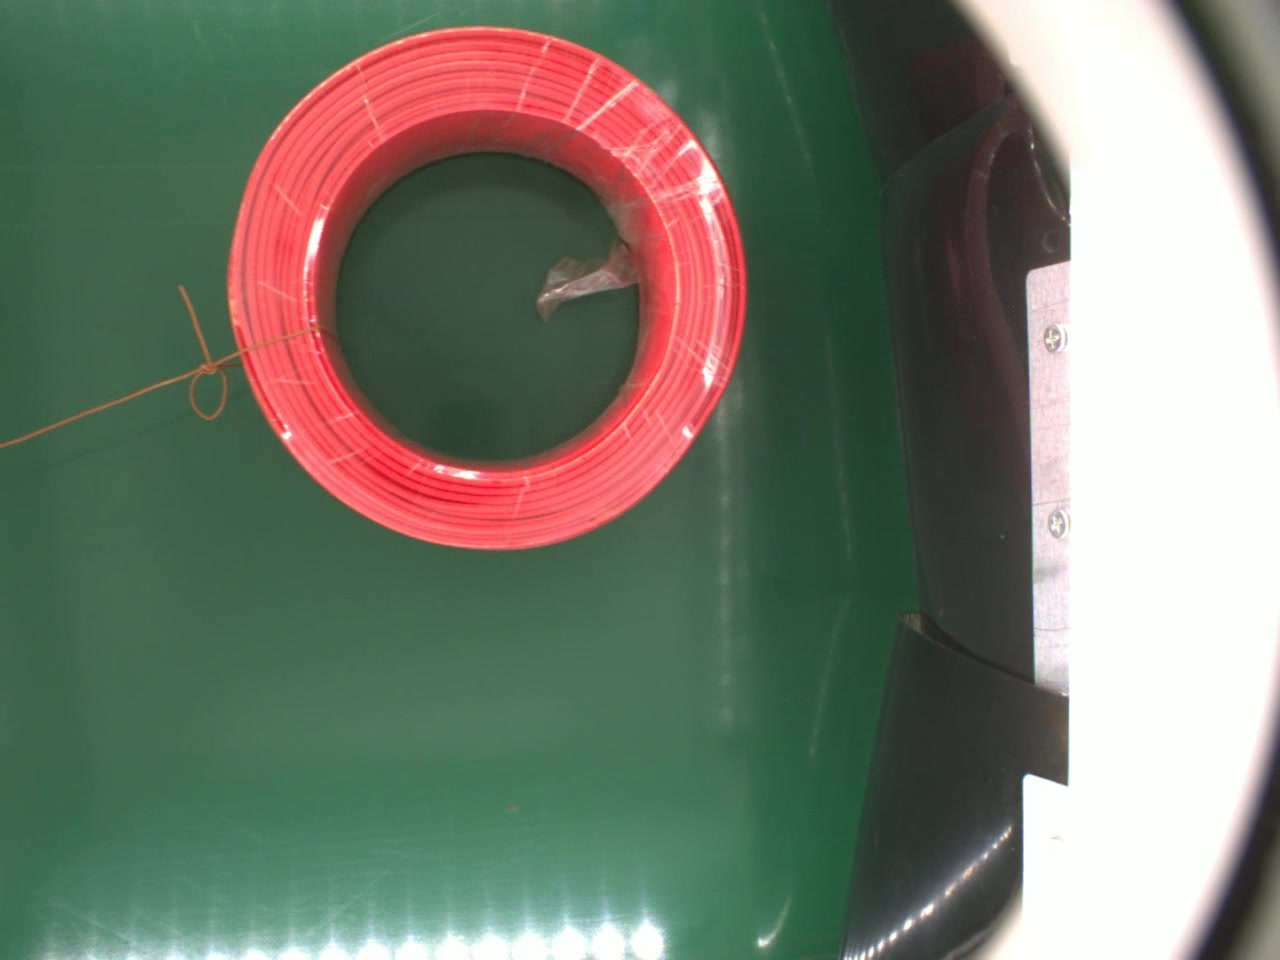red: (222, 23, 761, 563)
